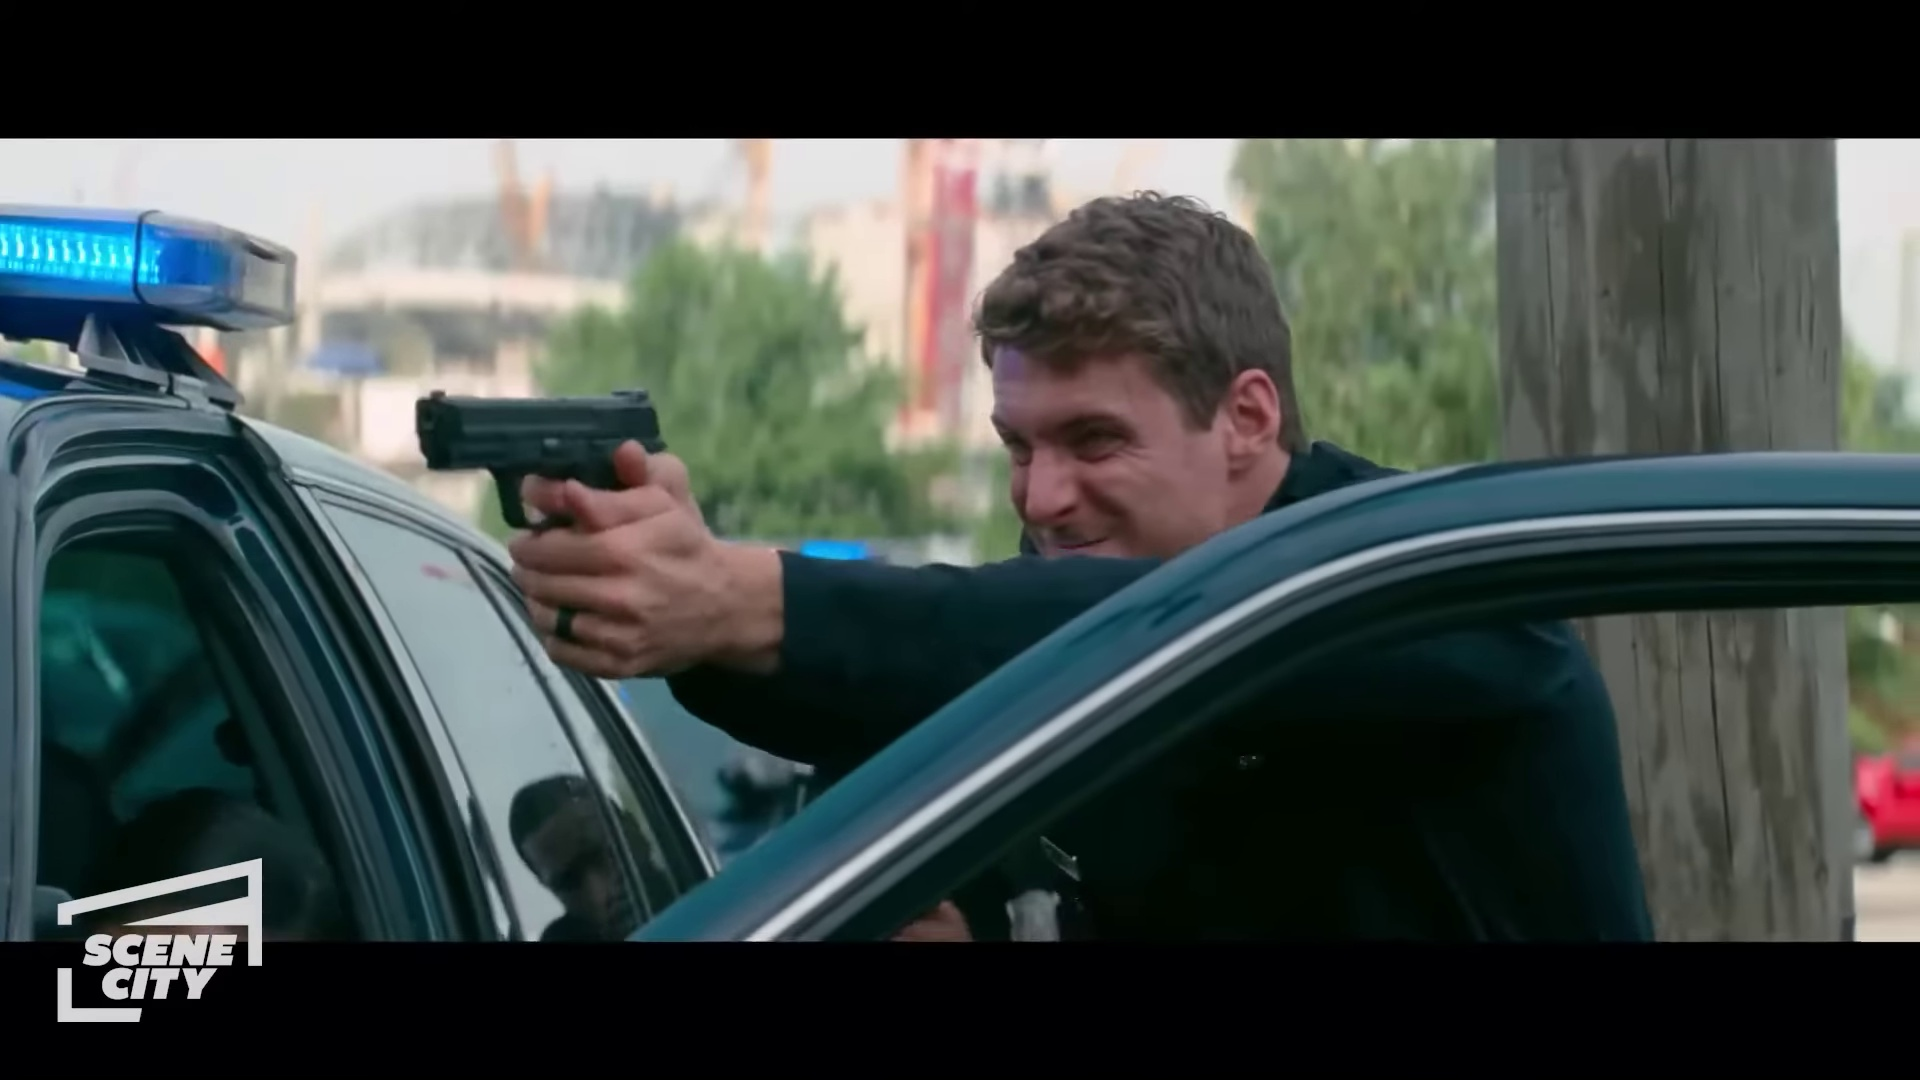gun: (414, 364, 679, 551)
p_w_gun: (427, 185, 1654, 949)
